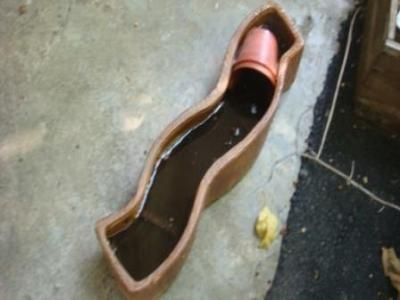bowl: (230, 26, 281, 95)
